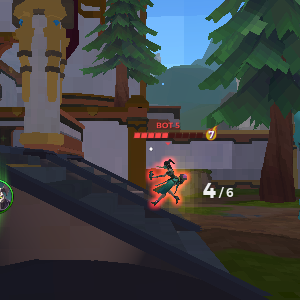model: (144, 152, 184, 205)
